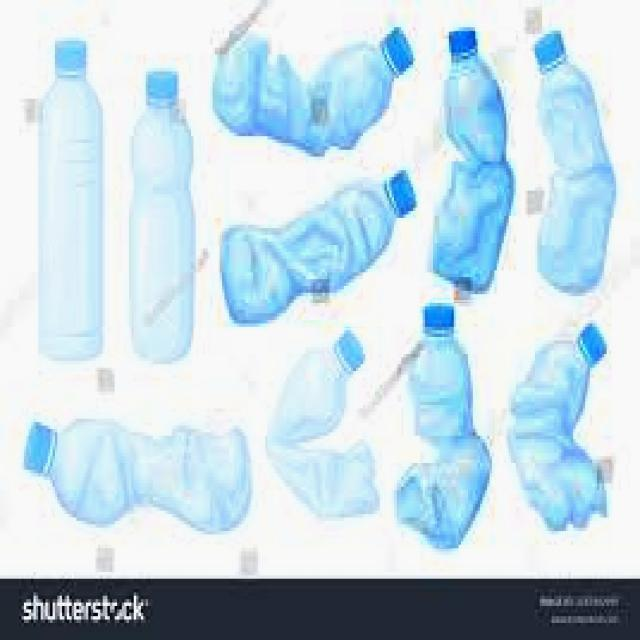defected: (10, 387, 262, 557), (219, 166, 418, 328), (207, 13, 416, 163), (528, 24, 619, 302), (397, 301, 495, 548), (433, 31, 518, 302), (269, 328, 385, 524), (508, 320, 612, 534)
good: (35, 23, 115, 369), (122, 60, 201, 378)
